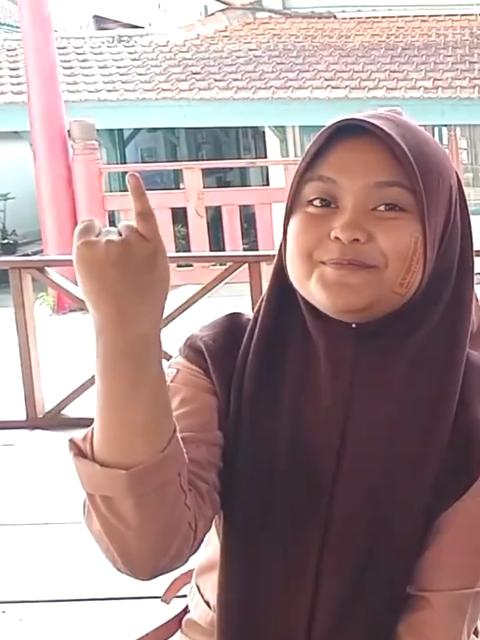J: (66, 170, 172, 348)
